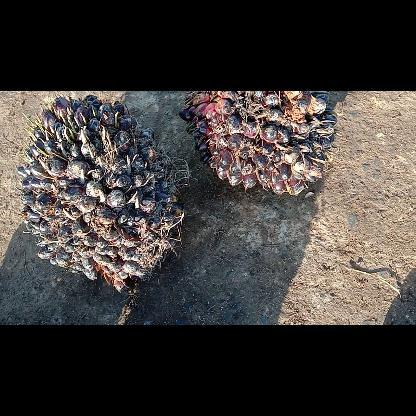TBS mentah: (16, 91, 186, 295), (174, 91, 338, 197)
